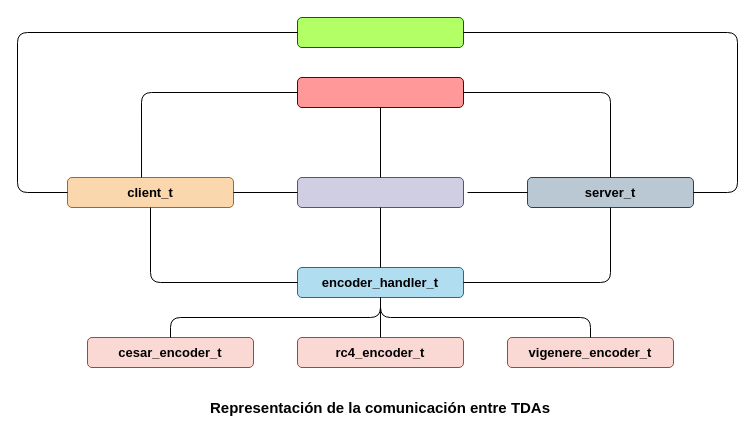
Some shapes in this 756 by 445 pixel diagram are drawn without their labels. The box of each missing label's shape, as (x1, y1, x2, y2) in pixels:
array_t: (296, 176, 464, 208)
io_handler_t: (296, 76, 464, 108)
socket_t: (296, 16, 464, 48)
